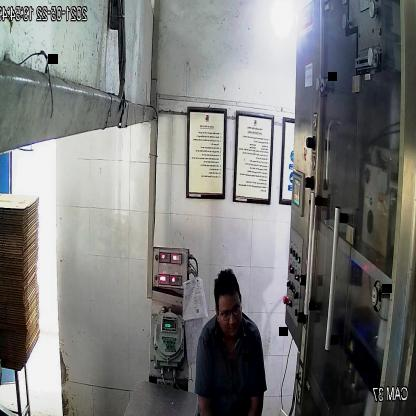goggles: (216, 298, 244, 324)
